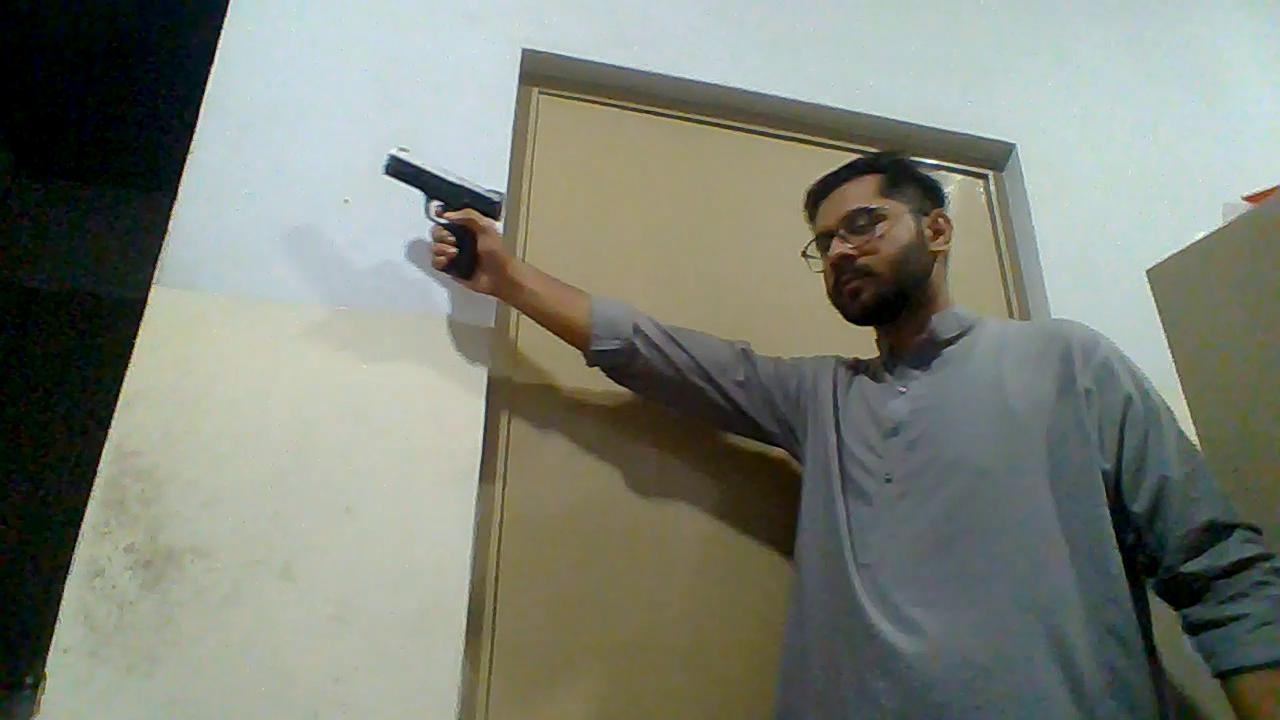criminal: (383, 146, 1280, 720)
weapon: (382, 147, 512, 278)
